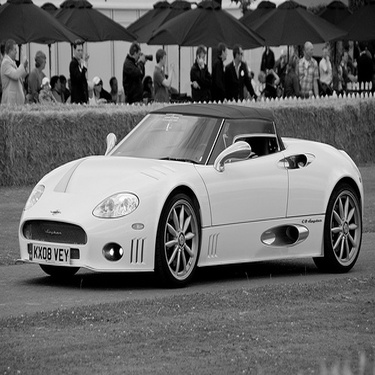car: (4, 90, 366, 282)
